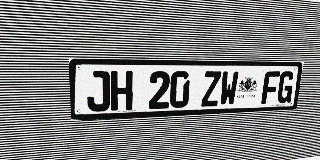0: (169, 71, 190, 108)
2: (149, 71, 170, 109)
F: (261, 71, 280, 104)
G: (276, 71, 295, 103)
H: (111, 71, 133, 111)
J: (86, 71, 110, 112)
W: (219, 71, 239, 106)
Z: (201, 71, 221, 107)
